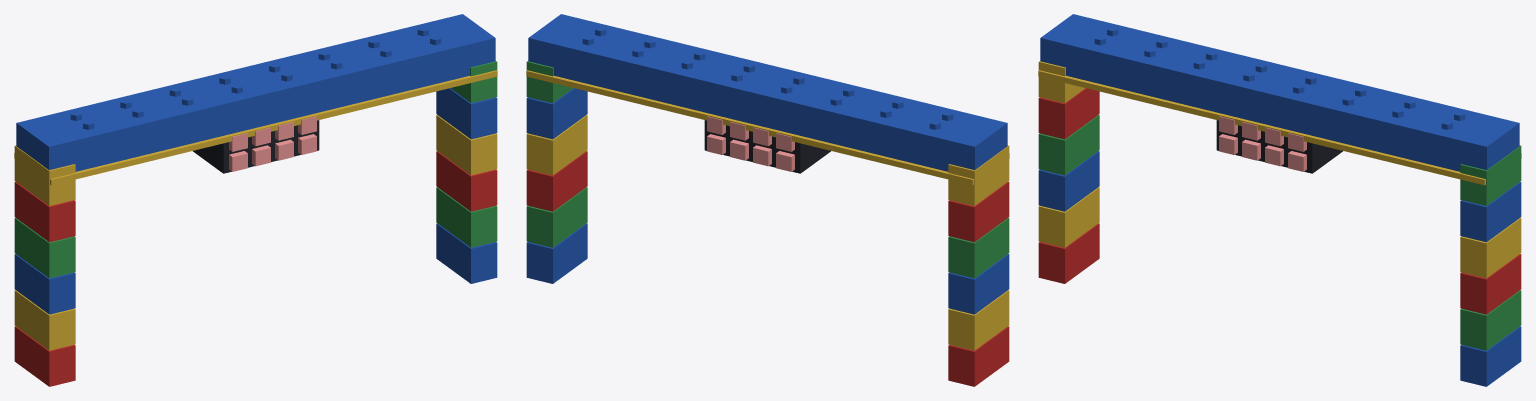
Rendered from gantry.glb.
The picture shows the model from 3 angles, left to right: view 1: azimuth 30°, elevation 25°; view 2: azimuth 150°, elevation 25°; view 3: azimuth 330°, elevation 25°; orthographic projection.
Parts seen in each view (by area): view 1: toyRoom-gantry, lamps; view 2: toyRoom-gantry, lamps; view 3: toyRoom-gantry, lamps.
Boxes of the visible parts, box(x1,y1,x2,y2) form: toyRoom-gantry: box(14, 14, 497, 386); lamps: box(229, 116, 316, 171); toyRoom-gantry: box(526, 14, 1009, 386); lamps: box(707, 116, 794, 171); toyRoom-gantry: box(1038, 14, 1521, 386); lamps: box(1219, 116, 1306, 171).
Bounding box in the file's own units: 1.26 × 0.659 × 0.184.
